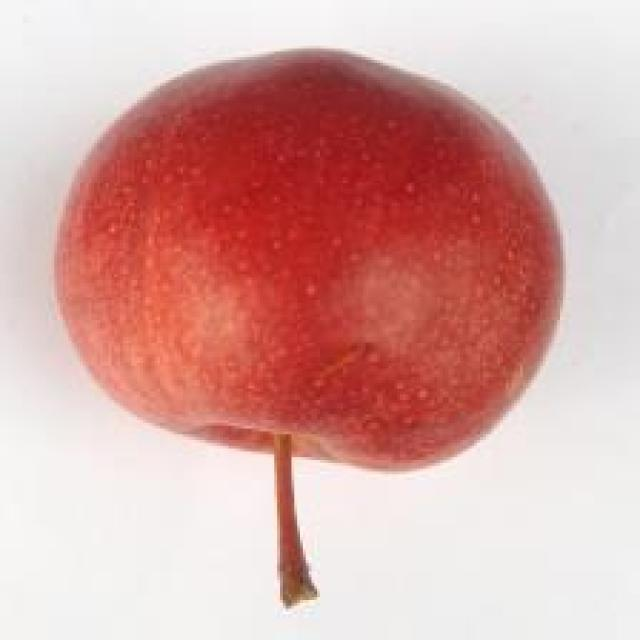apple: (24, 26, 603, 636)
